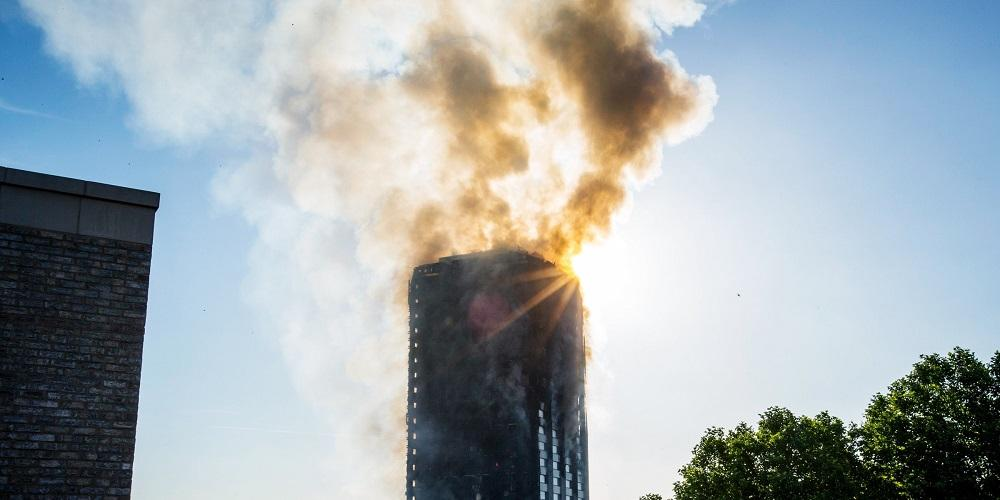smoke: (345, 75, 630, 222)
